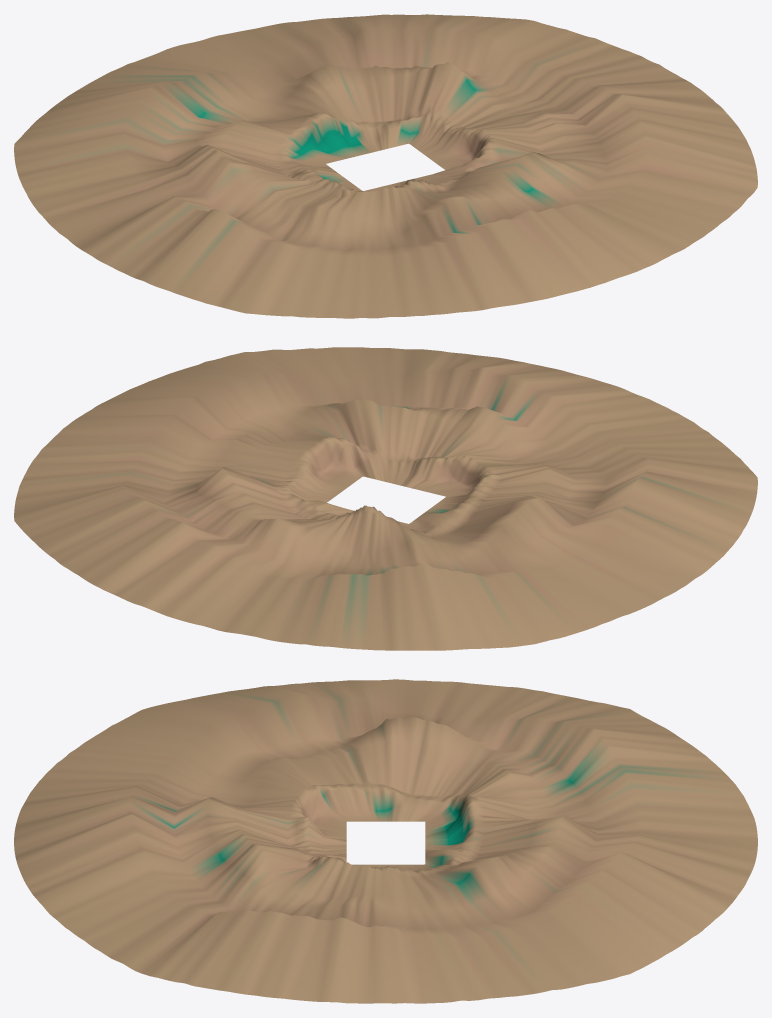
Rendered from DesertBasin.glb.
3 renders of one model, top to bottom at view 1: azimuth 30°, elevation 25°; view 2: azimuth 150°, elevation 25°; view 3: azimuth 270°, elevation 25°, orthographic. The views are drawn at different scales.
Visible parts, largest first — view 1: DesertBasin_03.004, DesertBasin_02.004, DesertBasin_04.004, DesertBasin_01.004, DesertBasin_00.004, DesertBasin_07.004, DesertBasin_05.004, DesertBasin_06.004; view 2: DesertBasin_04.004, DesertBasin_06.004, DesertBasin_05.004, DesertBasin_03.004, DesertBasin_02.004, DesertBasin_07.004, DesertBasin_00.004, DesertBasin_01.004; view 3: DesertBasin_07.004, DesertBasin_00.004, DesertBasin_01.004, DesertBasin_05.004, DesertBasin_06.004, DesertBasin_03.004, DesertBasin_04.004, DesertBasin_02.004.
Part boxes in pixels (left/top/right/bottom): DesertBasin_03.004: left=72, top=164, right=371, bottom=316; DesertBasin_02.004: left=291, top=179, right=561, bottom=318; DesertBasin_04.004: left=14, top=105, right=343, bottom=242; DesertBasin_01.004: left=405, top=151, right=740, bottom=294; DesertBasin_00.004: left=428, top=87, right=757, bottom=206; DesertBasin_07.004: left=399, top=16, right=699, bottom=156; DesertBasin_05.004: left=31, top=38, right=366, bottom=161; DesertBasin_06.004: left=210, top=14, right=480, bottom=153; DesertBasin_04.004: left=400, top=497, right=699, bottom=648; DesertBasin_06.004: left=31, top=483, right=354, bottom=627; DesertBasin_05.004: left=210, top=505, right=480, bottom=650; DesertBasin_03.004: left=428, top=453, right=757, bottom=575; DesertBasin_02.004: left=405, top=370, right=740, bottom=494; DesertBasin_07.004: left=14, top=420, right=343, bottom=539; DesertBasin_00.004: left=72, top=349, right=372, bottom=489; DesertBasin_01.004: left=291, top=347, right=560, bottom=486; DesertBasin_07.004: left=386, top=856, right=659, bottom=1003; DesertBasin_00.004: left=111, top=855, right=385, bottom=1003; DesertBasin_01.004: left=14, top=804, right=346, bottom=958; DesertBasin_05.004: left=425, top=725, right=757, bottom=842; DesertBasin_06.004: left=425, top=815, right=757, bottom=957; DesertBasin_03.004: left=112, top=680, right=385, bottom=826; DesertBasin_04.004: left=386, top=679, right=659, bottom=826; DesertBasin_02.004: left=14, top=726, right=346, bottom=842.
Bounding box in the file's own units: 934 × 62.21 × 906.
